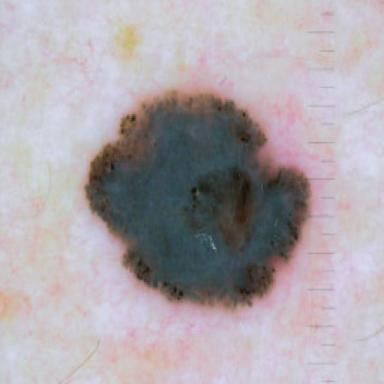Melanoma: (85, 91, 309, 307)
